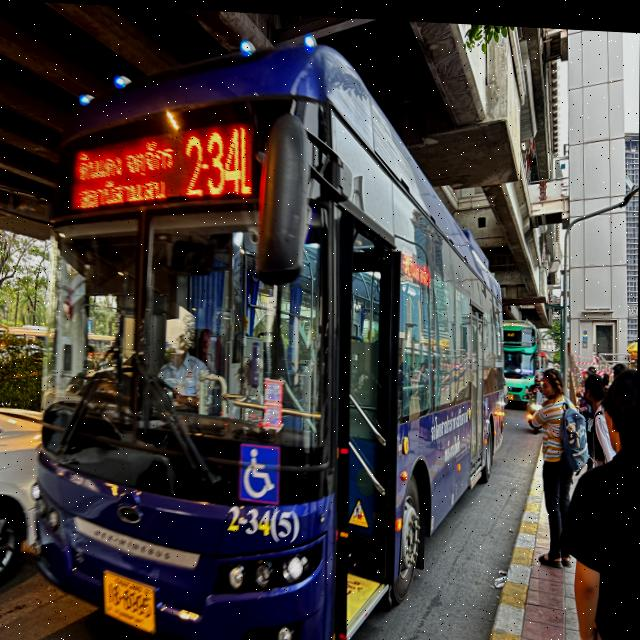Bus-Line-Number: (182, 115, 259, 206)
Destination-Sign-Normal: (72, 136, 177, 218)
TSB-Bus: (37, 13, 510, 640)
